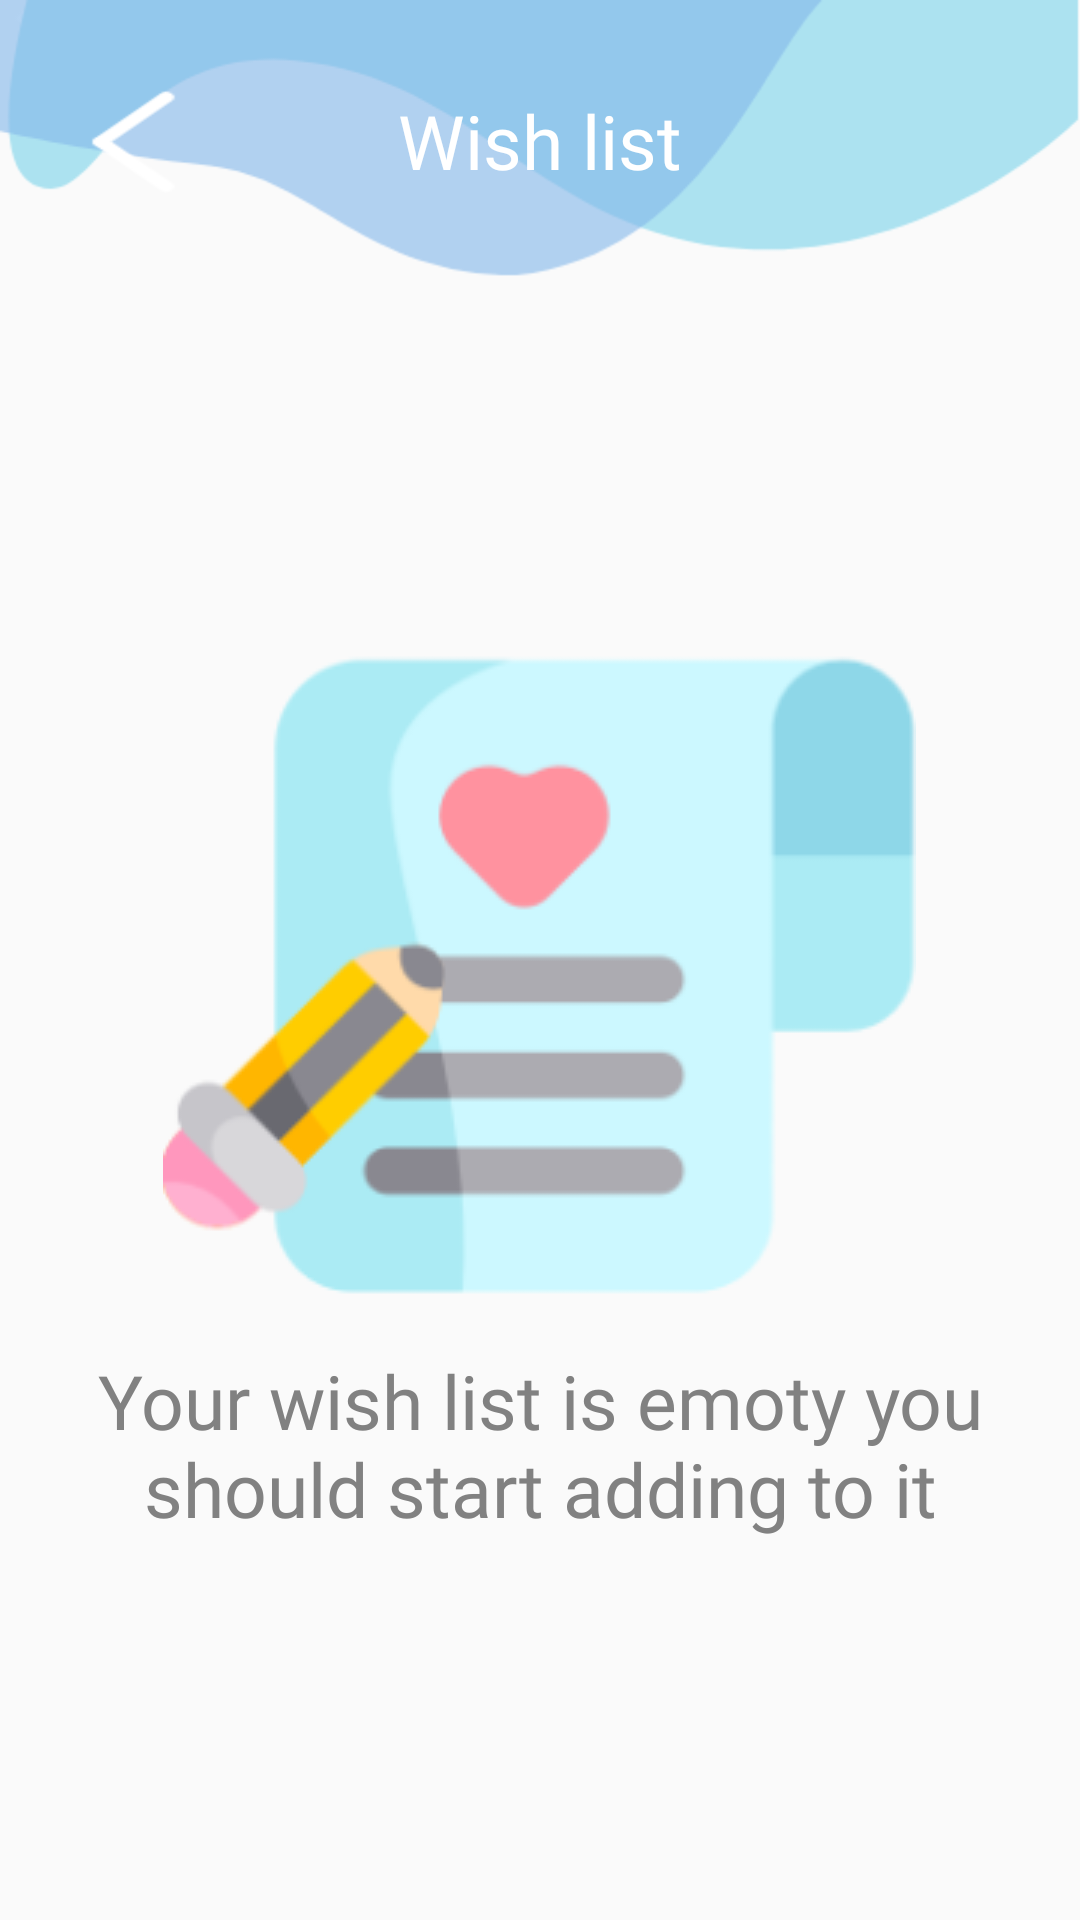

Screen size 1080px×1920px. Icon name, then its center in pixels as (x=x, y=y):
back arrow: (x=133, y=142)
